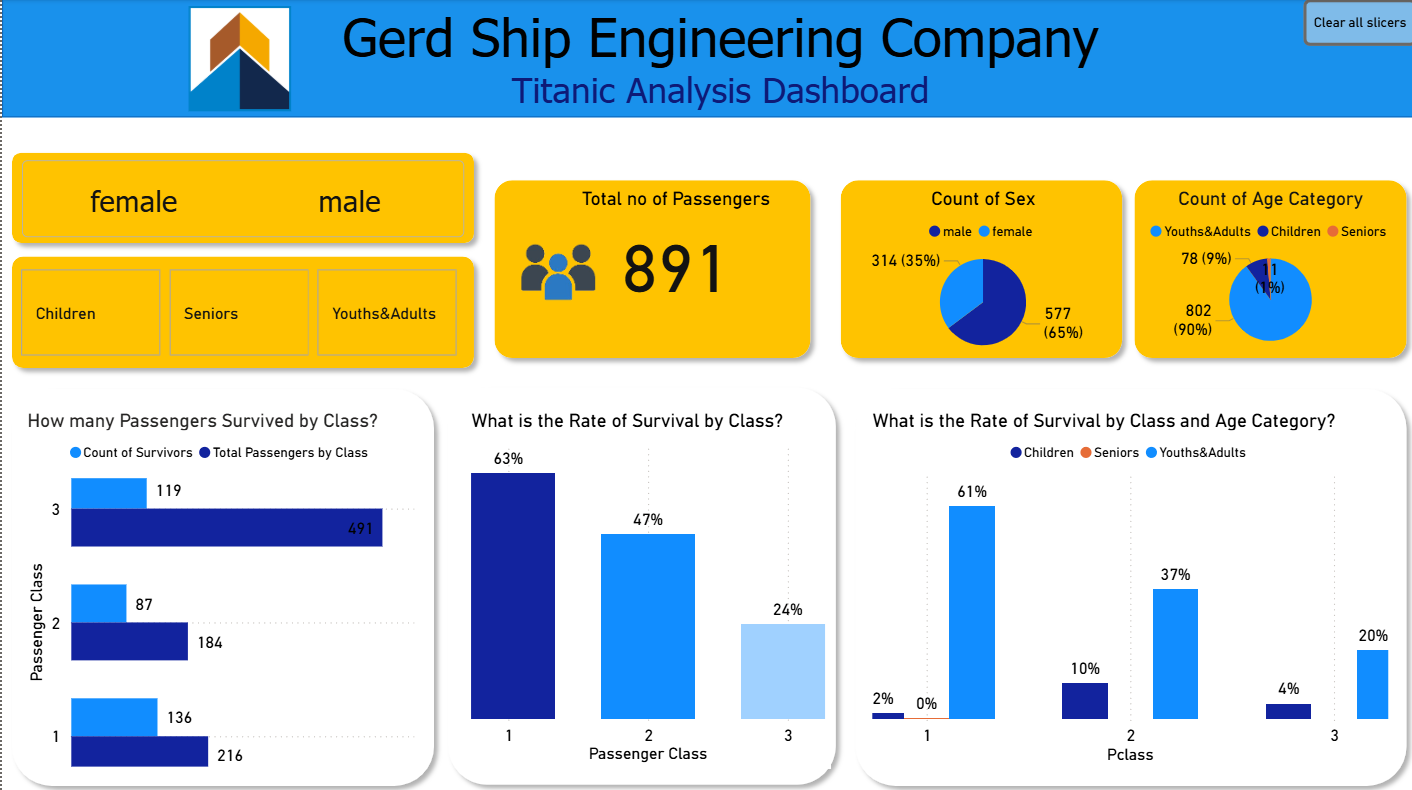

Layout of this report page (visuals, bound fields, positions):
{"tool":"powerbi","page":{"name":"Page 1","canvas":[1280,720],"ordinal":0},"visuals":[{"type":"shape","box":[763.7,343.4,516.3,377],"z":1000},{"type":"shape","box":[0,129.7,435.9,99.7],"z":1500},{"type":"shape","box":[0,223.3,435.9,118.9],"z":2000},{"type":"shape","box":[1015.8,154.9,264.2,178.9],"z":3000},{"type":"shape","box":[749.3,154.9,272.6,178.9],"z":4000},{"type":"shape","box":[435.9,154.9,303.8,178.9],"z":5000},{"type":"shape","box":[395,343,368.6,377],"z":6000},{"type":"shape","box":[0,343.4,399.8,377],"z":7000},{"type":"shape","box":[0,0,1280.3,107],"z":8000},{"type":"clusteredBarChart","title":"How many Passengers Survived by Class?","fields":{"Category":["Sheet1.Pclass"],"Y":["Sheet1.Count of Survivors","Sheet1.Total Passengers by Class"]},"box":[18,371,360.2,337.4],"z":9000},{"type":"columnChart","title":"What is the Rate of Survival by Class?","fields":{"Category":["Sheet1.Pclass"],"Y":["Sheet1.Percentage Survived"]},"box":[419.1,371,330.2,325.4],"z":10000},{"type":"clusteredColumnChart","title":"What is the Rate of Survival by Class and Age Category?","fields":{"Category":["Sheet1.Pclass"],"Series":["Sheet1.age_category"],"Y":["Sheet1.Percentage Survived"]},"box":[782.9,371,476.7,325.4],"z":11000},{"type":"advancedSlicerVisual","fields":{"Values":["Sheet1.age_category"]},"box":[12,240.2,405.9,88.9],"z":12000},{"type":"advancedSlicerVisual","fields":{"Values":["Sheet1.Sex"]},"box":[18,145.3,399.8,69.6],"z":14000},{"type":"pieChart","title":"Count of Sex","fields":{"Y":["CountNonNull(Sheet1.Sex)"],"Category":["Sheet1.Sex"]},"box":[757.5,170.7,260.1,158.3],"z":15000},{"type":"pieChart","title":"Count of Age Category","fields":{"Category":["Sheet1.age_category"],"Y":["CountNonNull(Sheet1.age_category)"]},"box":[1015.3,170.7,264.6,153.8],"z":16000},{"type":"card","title":"Total no of Passengers","fields":{"Values":["CountNonNull(Sheet1.PassengerId)"]},"box":[504.3,170.7,210.3,110.8],"z":17000},{"type":"textbox","box":[148.9,0,1001.7,107.1],"z":18000},{"type":"image","box":[164.2,0,103,108.5],"z":19000},{"type":"image","box":[450.3,198.1,106.9,98.5],"z":20000},{"type":"actionButton","box":[1177.4,0,102.9,42.5],"z":20500}]}

Visuals, with their boxes in screenshot pixels (x1, y1, x2, y2), scaled from the page's 1280x720 canvas onto the 1412x790 screenshot:
shape: crop(842, 377, 1411, 789)
shape: crop(0, 142, 481, 252)
shape: crop(0, 245, 481, 375)
shape: crop(1121, 170, 1411, 366)
shape: crop(827, 170, 1127, 366)
shape: crop(481, 170, 816, 366)
shape: crop(436, 376, 842, 789)
shape: crop(0, 377, 441, 789)
shape: crop(0, 0, 1411, 117)
"How many Passengers Survived by Class?" clusteredBarChart: crop(20, 407, 417, 777)
"What is the Rate of Survival by Class?" columnChart: crop(462, 407, 827, 764)
"What is the Rate of Survival by Class and Age Category?" clusteredColumnChart: crop(864, 407, 1389, 764)
advancedSlicerVisual - Sheet1.age_category: crop(13, 264, 461, 361)
advancedSlicerVisual - Sheet1.Sex: crop(20, 159, 461, 236)
"Count of Sex" pieChart: crop(836, 187, 1123, 361)
"Count of Age Category" pieChart: crop(1120, 187, 1411, 356)
"Total no of Passengers" card: crop(556, 187, 788, 309)
textbox: crop(164, 0, 1269, 118)
image: crop(181, 0, 295, 119)
image: crop(497, 217, 615, 325)
actionButton: crop(1299, 0, 1411, 47)
